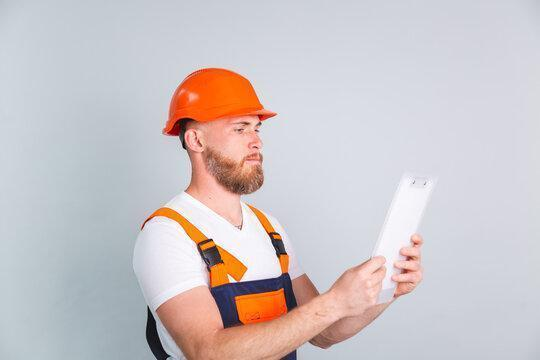helmet: (162, 68, 278, 134)
